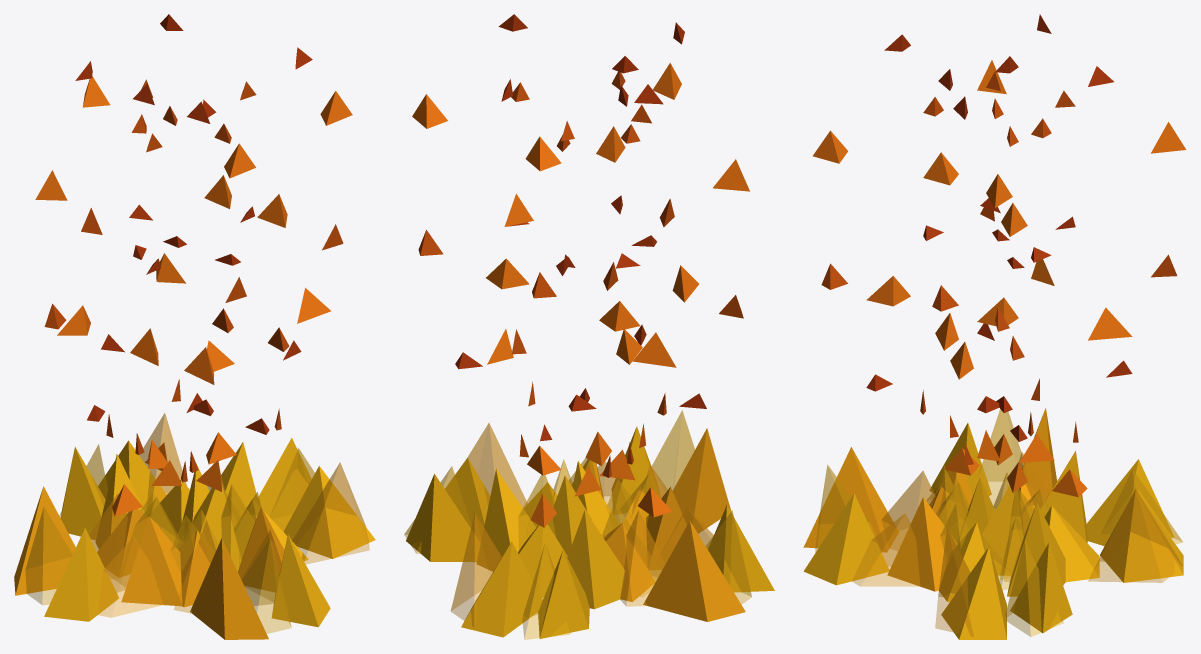
File: model_2267_spotanim.obj
3 views of the same model, side by side, from view 1: azimuth 30°, elevation 25°; view 2: azimuth 150°, elevation 25°; view 3: azimuth 270°, elevation 25° (orthographic). The views are drawn at different scales.
Visible parts, largest first — view 1: 2267; view 2: 2267; view 3: 2267.
Boxes of the visible parts, x1,y1,x2,y2 form: 2267: (14,14,375,639); 2267: (404,14,774,639); 2267: (803,14,1186,639).
Size of the model in its own units: 128 by 187 by 128.
